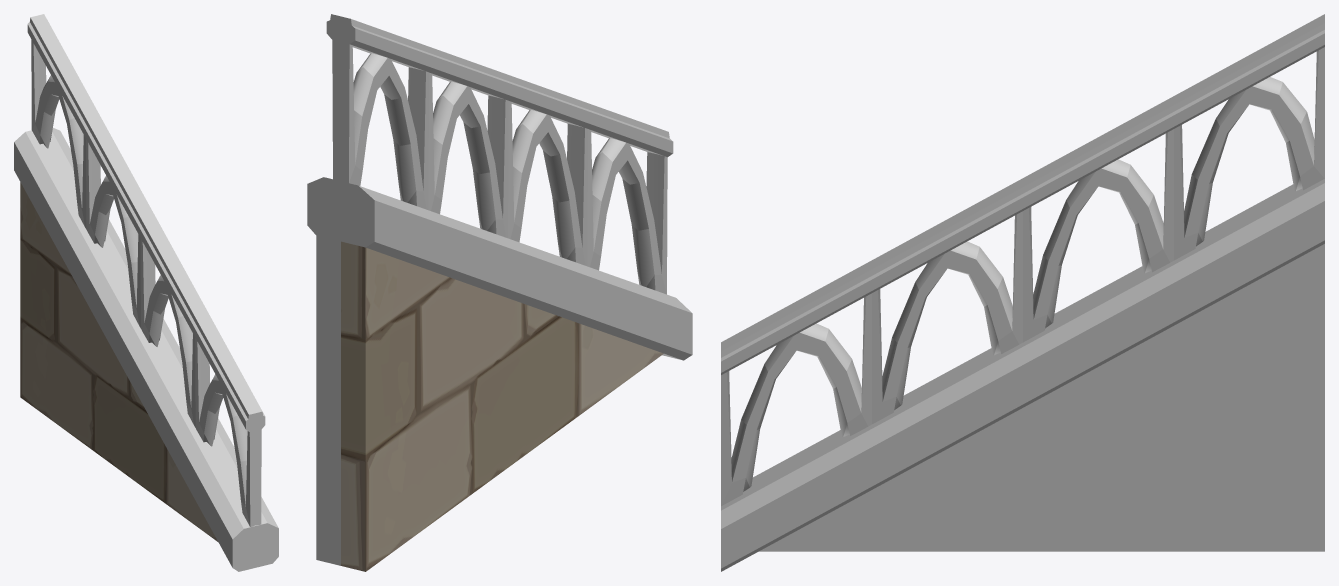
File: SM_Bld_Stairs_Railing_Slope_01.fbx
3 renders of one model, left to right at view 1: azimuth 30°, elevation 25°; view 2: azimuth 150°, elevation 25°; view 3: azimuth 270°, elevation 25°, orthographic. The views are drawn at different scales.
Parts seen in each view (by area): view 1: SM_Bld_Stairs_Railing_Slope_01; view 2: SM_Bld_Stairs_Railing_Slope_01; view 3: SM_Bld_Stairs_Railing_Slope_01.
Part boxes in pixels (bbox=[...]): SM_Bld_Stairs_Railing_Slope_01: bbox=[14, 14, 278, 571]; SM_Bld_Stairs_Railing_Slope_01: bbox=[307, 14, 692, 571]; SM_Bld_Stairs_Railing_Slope_01: bbox=[721, 14, 1324, 571].
Bounding box in the file's own units: 30.52 × 248 × 250.
